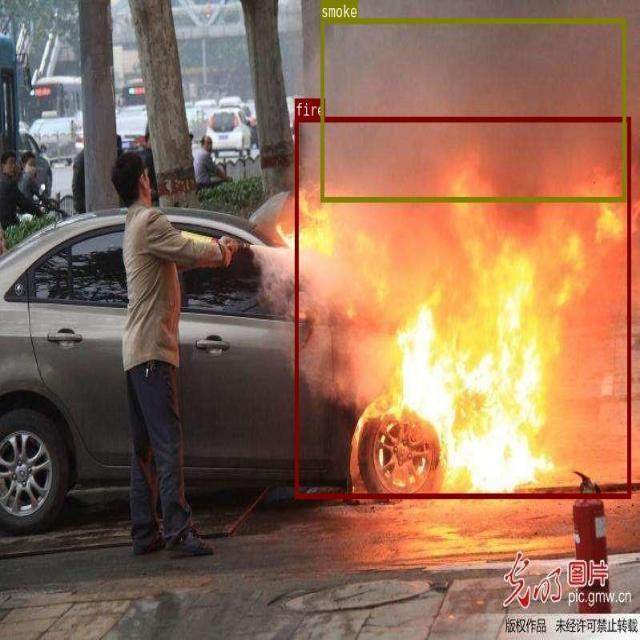fire: (294, 116, 630, 498)
smoke: (320, 18, 625, 201)
